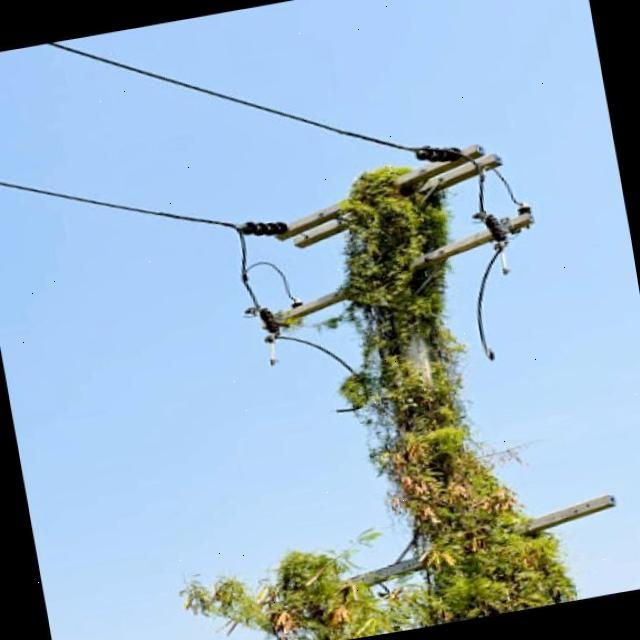critical vegetation: (213, 143, 628, 640)
